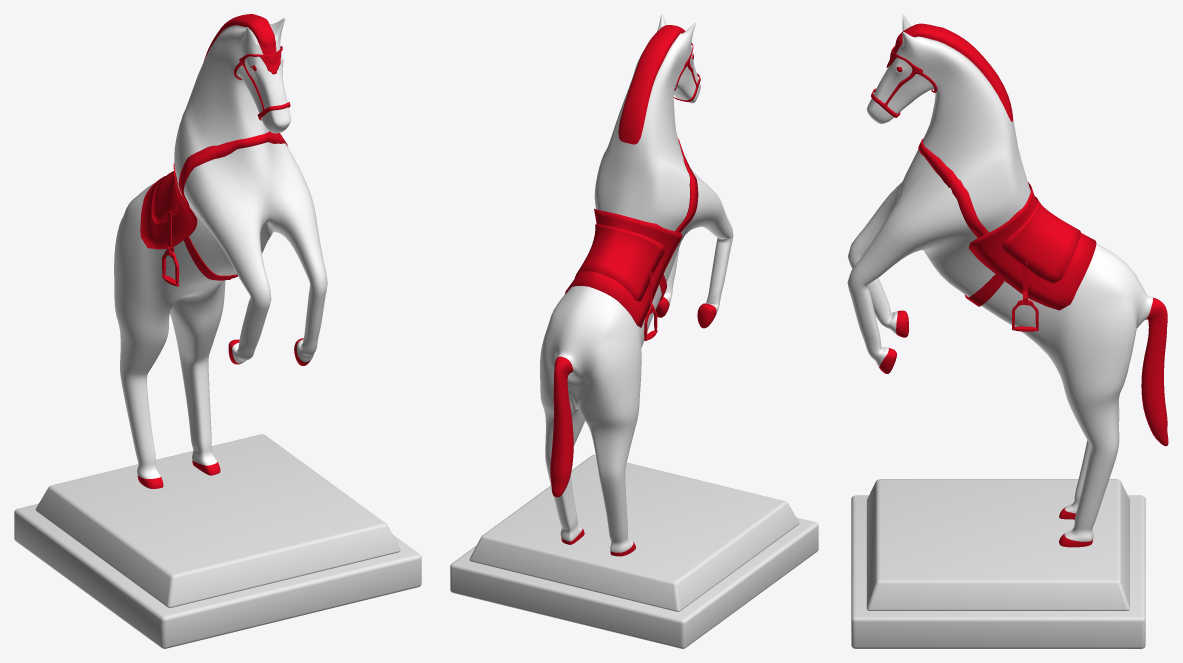
Rendered from Pferd_final.fbx.
3 views of the same model, side by side, from view 1: azimuth 30°, elevation 25°; view 2: azimuth 150°, elevation 25°; view 3: azimuth 270°, elevation 25° (orthographic). The views are drawn at different scales.
Parts seen in each view (by area): view 1: Pferd, base2, base, saddle_1, saddle_belt_1, saddle_2, harness; view 2: Pferd, base2, base, saddle_2, saddle_1, saddle_belt_1; view 3: Pferd, base2, base, saddle_1, saddle_2, saddle_belt_1, harness, stirrup_1, saddle_belt_2.
Boxes of the visible parts, x1,y1,x2,y2 form: Pferd: (114, 14, 327, 488); base2: (35, 434, 400, 607); base: (14, 503, 421, 648); saddle_1: (140, 163, 197, 249); saddle_belt_1: (178, 131, 287, 206); saddle_2: (151, 171, 180, 223); harness: (234, 46, 290, 120); Pferd: (540, 14, 733, 556); base2: (469, 454, 799, 611); base: (450, 517, 818, 648); saddle_2: (574, 224, 665, 301); saddle_1: (565, 208, 682, 327); saddle_belt_1: (675, 138, 698, 232); Pferd: (847, 14, 1168, 547); base2: (866, 479, 1129, 610); base: (851, 495, 1145, 648); saddle_1: (968, 182, 1096, 310); saddle_2: (1001, 196, 1080, 283); saddle_belt_1: (918, 138, 988, 237); harness: (871, 46, 937, 117); stirrup_1: (1012, 261, 1038, 331); saddle_belt_2: (964, 274, 1003, 306).
Bounding box in the file's own units: 5 × 10.59 × 5.45.
